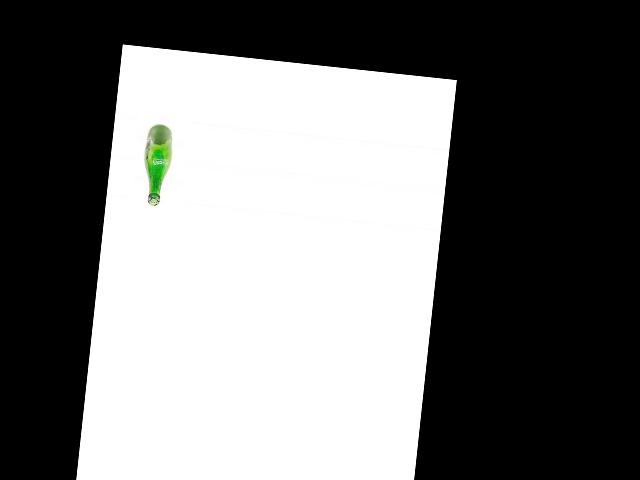beer: (139, 122, 175, 207)
